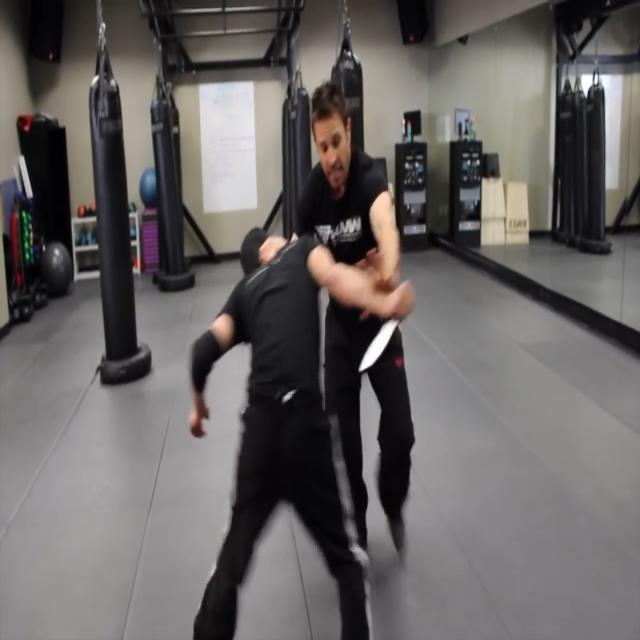knife: (359, 318, 402, 377)
